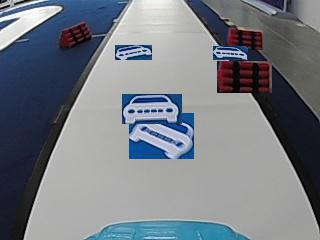bomb: (59, 20, 91, 47)
